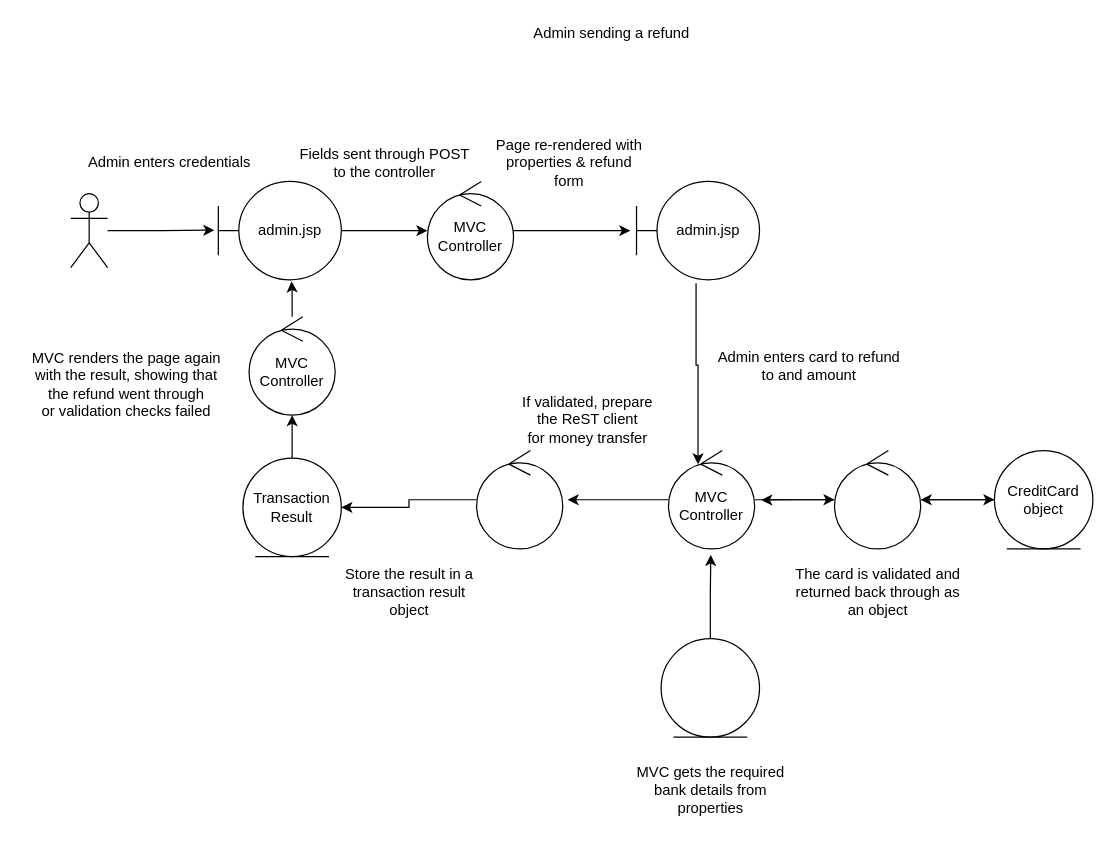
The diagram is 1114 pixels wide and 841 high, and some of its shapes have lost their labels. The box of each missing label's shape, as (x1, y1, x2, y2) in pixels:
Admin: (69, 192, 108, 268)
adminSettings: (660, 638, 760, 737)
Card Validation: (833, 449, 921, 549)
RestClient: (475, 449, 563, 549)
